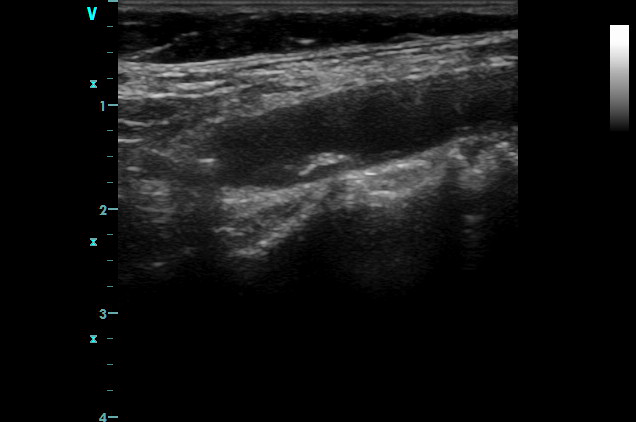Calcified Tissue: (340, 160, 386, 175)
Fibrous Tissue: (310, 144, 380, 158)
Lipid Core: (391, 137, 458, 154), (457, 125, 521, 139)
